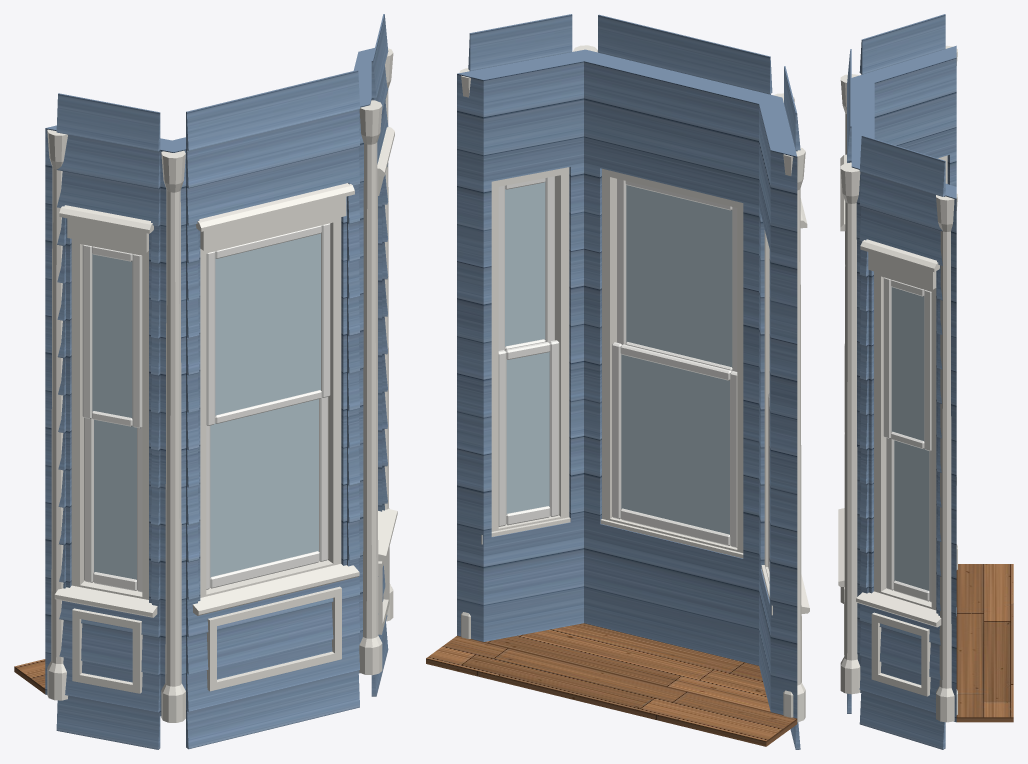
The model's file is bay_g_d.glb.
3 views of the same model, side by side, from view 1: azimuth 30°, elevation 25°; view 2: azimuth 150°, elevation 25°; view 3: azimuth 270°, elevation 25° (orthographic). The views are drawn at different scales.
Visible parts, largest first — view 1: bay_g_d_siding_d, bay_g_d_trim, bay_g_d_glass, bay_g_d_sash, bay_g_d_frame, bay_g_d_floor; view 2: bay_g_d_siding_d, bay_g_d_glass, bay_g_d_floor, bay_g_d_frame, bay_g_d_sash, bay_g_d_trim; view 3: bay_g_d_siding_d, bay_g_d_trim, bay_g_d_glass, bay_g_d_floor, bay_g_d_frame, bay_g_d_sash.
Part boxes in pixels (bbox=[...]): bay_g_d_siding_d: bbox=[45, 14, 388, 749]; bay_g_d_trim: bbox=[47, 48, 397, 722]; bay_g_d_glass: bbox=[92, 233, 320, 579]; bay_g_d_sash: bbox=[82, 223, 330, 592]; bay_g_d_frame: bbox=[71, 196, 377, 599]; bay_g_d_floor: bbox=[14, 659, 45, 694]; bay_g_d_siding_d: bbox=[457, 14, 800, 749]; bay_g_d_glass: bbox=[505, 182, 732, 534]; bay_g_d_floor: bbox=[426, 623, 797, 746]; bay_g_d_frame: bbox=[491, 167, 769, 583]; bay_g_d_sash: bbox=[498, 176, 769, 571]; bay_g_d_trim: bbox=[459, 45, 809, 722]; bay_g_d_siding_d: bbox=[847, 14, 956, 749]; bay_g_d_trim: bbox=[838, 45, 957, 722]; bay_g_d_glass: bbox=[891, 287, 929, 590]; bay_g_d_floor: bbox=[956, 564, 1013, 722]; bay_g_d_frame: bbox=[874, 155, 947, 610]; bay_g_d_sash: bbox=[883, 277, 931, 602].
Size of the model in its own units: 1.92 by 3.4 by 0.92.
Materials: 6 (2 with a texture image).
